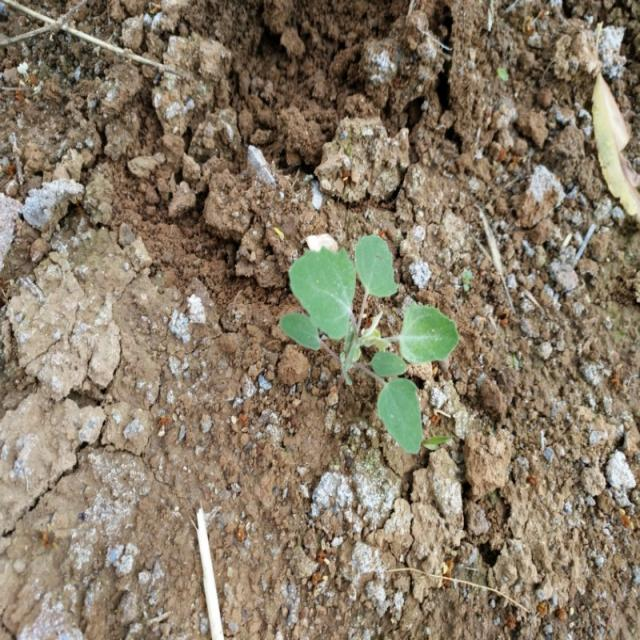ca: (280, 232, 458, 455)
